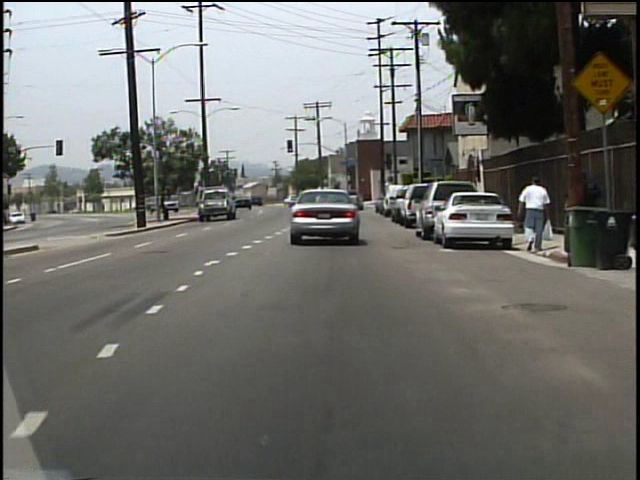person: (515, 176, 551, 257)
